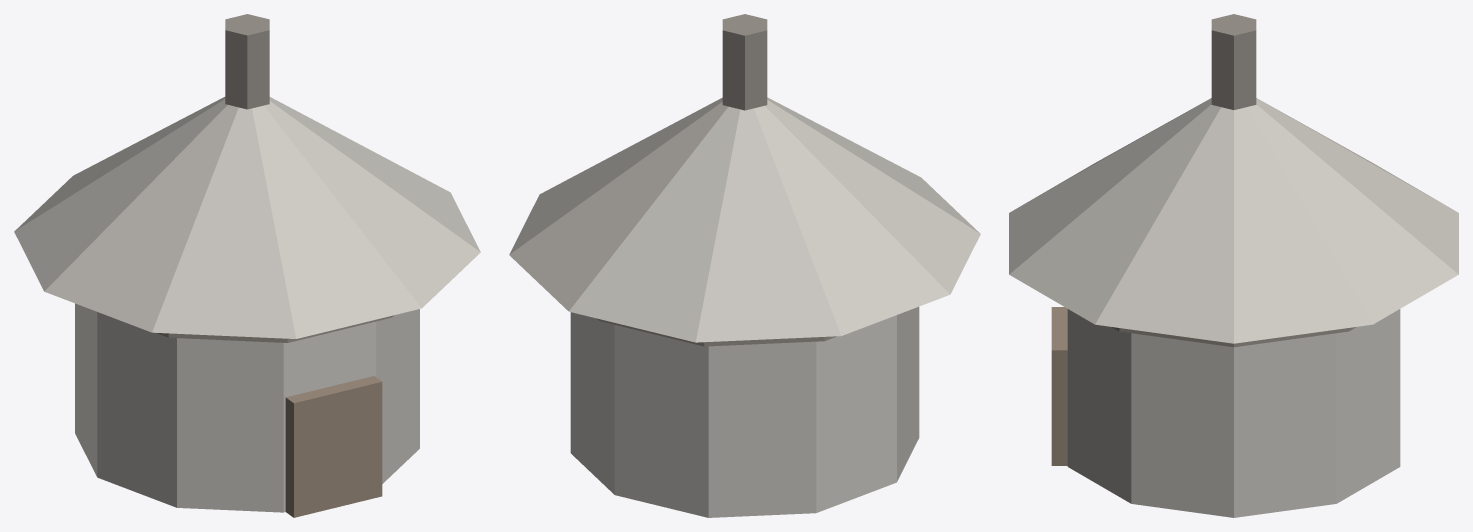
The model's file is Hub.glb.
3 renders of one model, left to right at view 1: azimuth 30°, elevation 25°; view 2: azimuth 150°, elevation 25°; view 3: azimuth 270°, elevation 25°, orthographic.
Parts seen in each view (by area): view 1: tint, body; view 2: tint, body; view 3: tint, body.
Part boxes in pixels (x1=…): tint: x1=14, y1=14, x2=480, y2=338; body: x1=75, y1=303, x2=419, y2=517; tint: x1=509, y1=14, x2=980, y2=342; body: x1=570, y1=306, x2=919, y2=517; tint: x1=1009, y1=14, x2=1458, y2=343; body: x1=1051, y1=307, x2=1400, y2=517.
Bounding box in the file's own units: 0.92 × 0.9 × 0.875.
